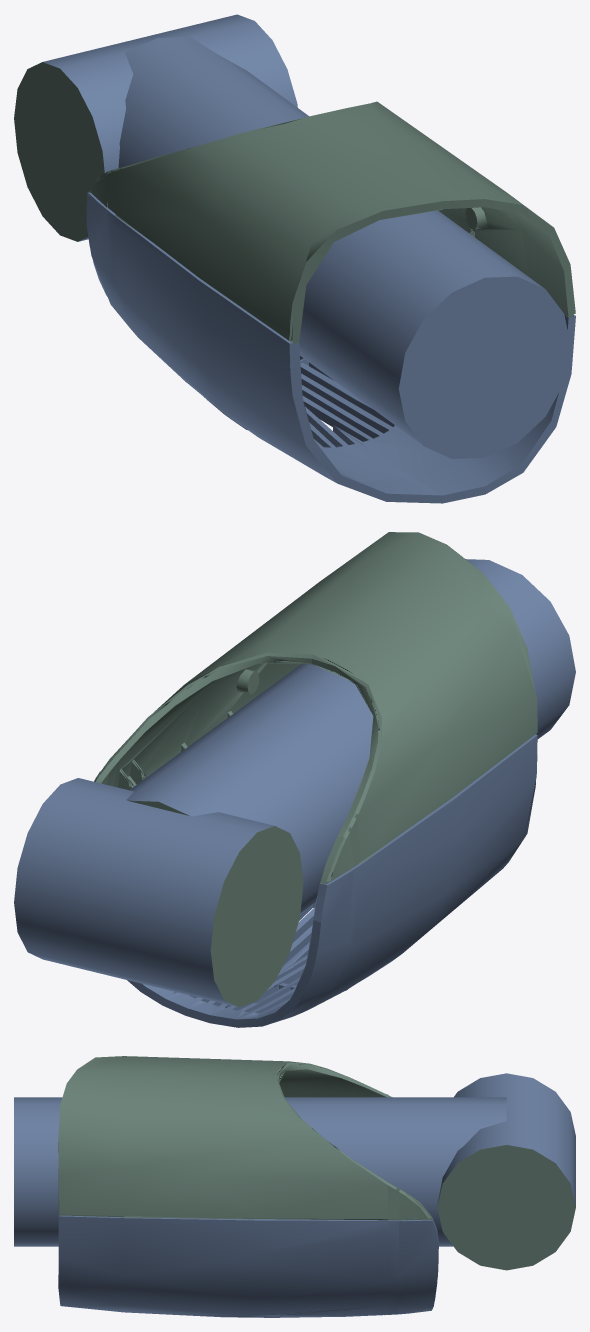
Rendered from icub_l_thigh.dae.
3 views of the same model, one above another, from view 1: azimuth 30°, elevation 25°; view 2: azimuth 150°, elevation 25°; view 3: azimuth 270°, elevation 25° (orthographic). The views are drawn at different scales.
Visible parts, largest first — view 1: l_upperleg_mesh, l_thigh_cyl1_mesh, l_thigh_cyl2_mesh; view 2: l_upperleg_mesh, l_thigh_cyl2_mesh, l_thigh_cyl1_mesh; view 3: l_upperleg_mesh, l_thigh_cyl2_mesh, l_thigh_cyl1_mesh.
Boxes of the visible parts, box(x1,y1,x2,y2) form: l_upperleg_mesh: box(86, 101, 575, 503); l_thigh_cyl1_mesh: box(118, 37, 570, 458); l_thigh_cyl2_mesh: box(14, 14, 297, 241); l_upperleg_mesh: box(94, 532, 537, 1027); l_thigh_cyl2_mesh: box(14, 778, 303, 1007); l_thigh_cyl1_mesh: box(126, 559, 575, 912); l_upperleg_mesh: box(58, 1056, 438, 1317); l_thigh_cyl2_mesh: box(437, 1073, 575, 1270); l_thigh_cyl1_mesh: box(14, 1097, 506, 1246).
Bounding box in the file's own units: 0.1029 × 0.1178 × 0.2555.
